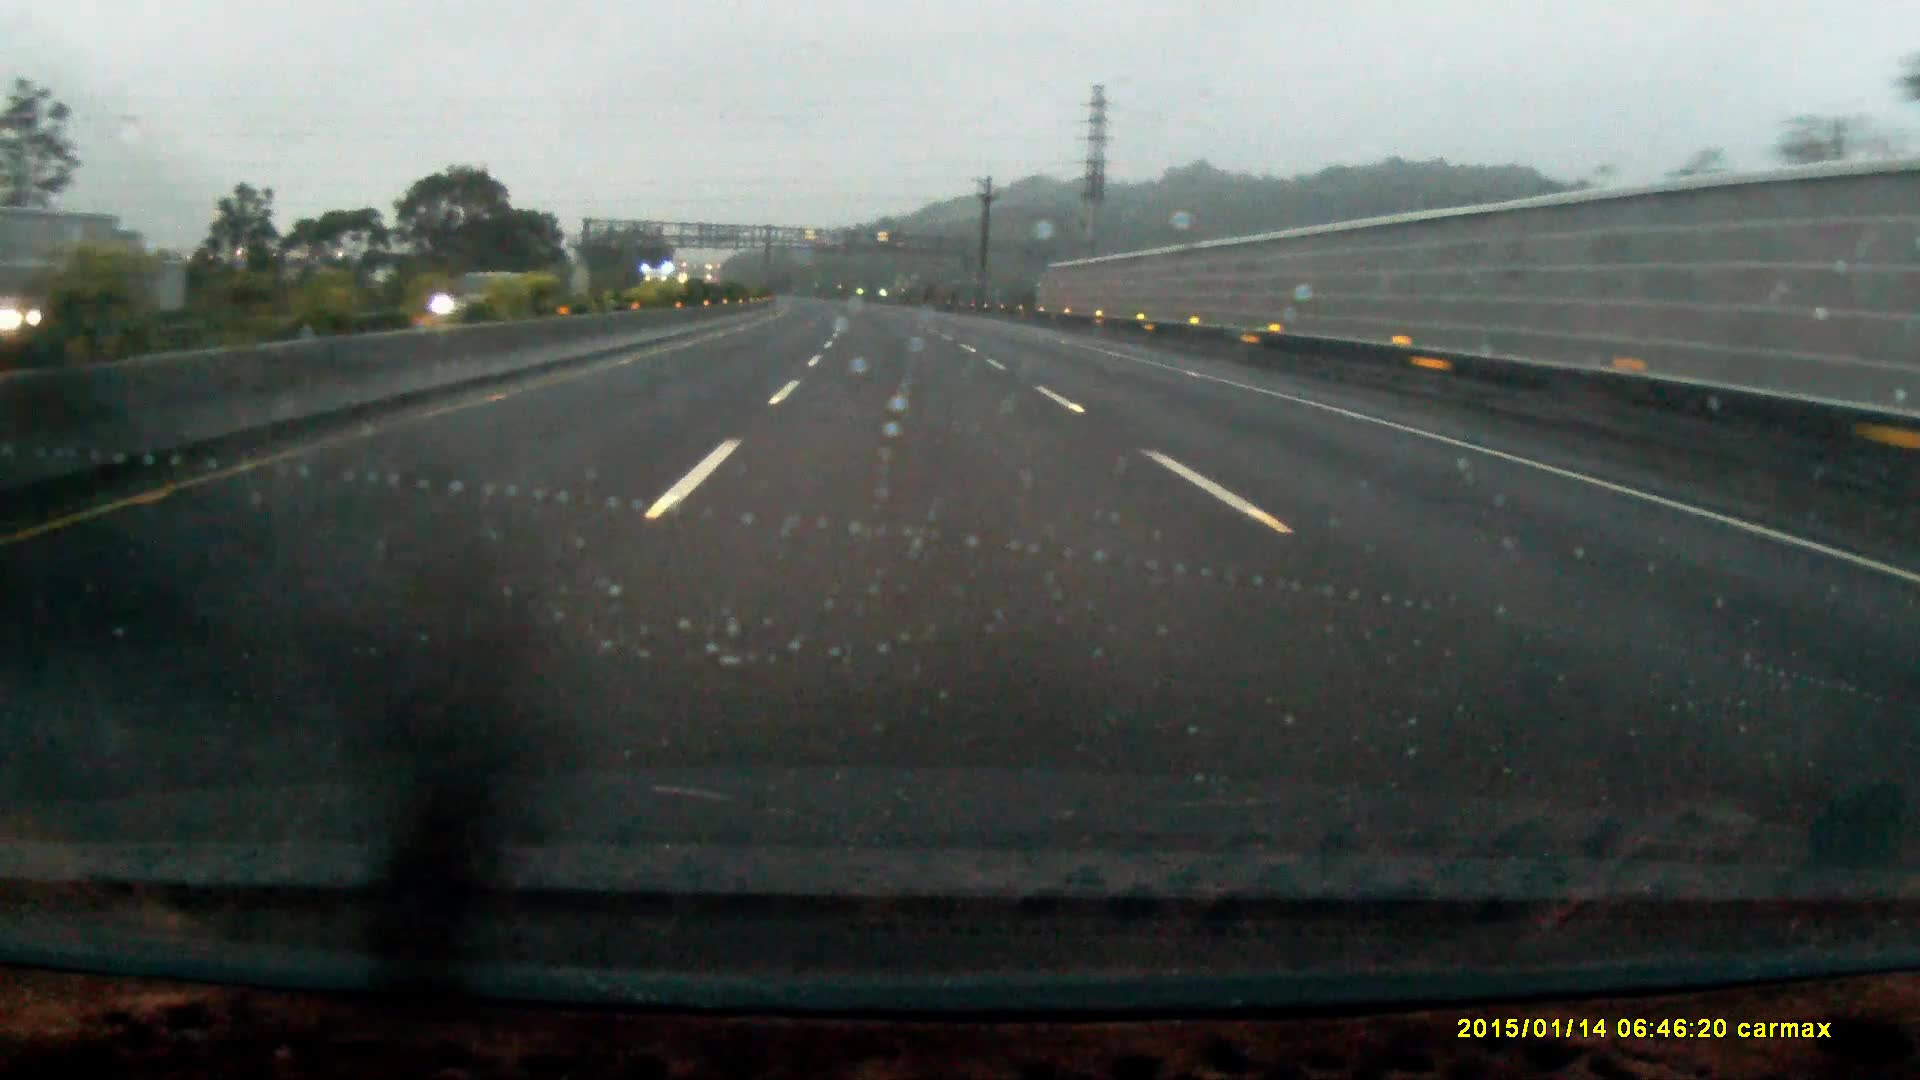vehicle: (405, 272, 495, 320), (644, 264, 687, 306)
